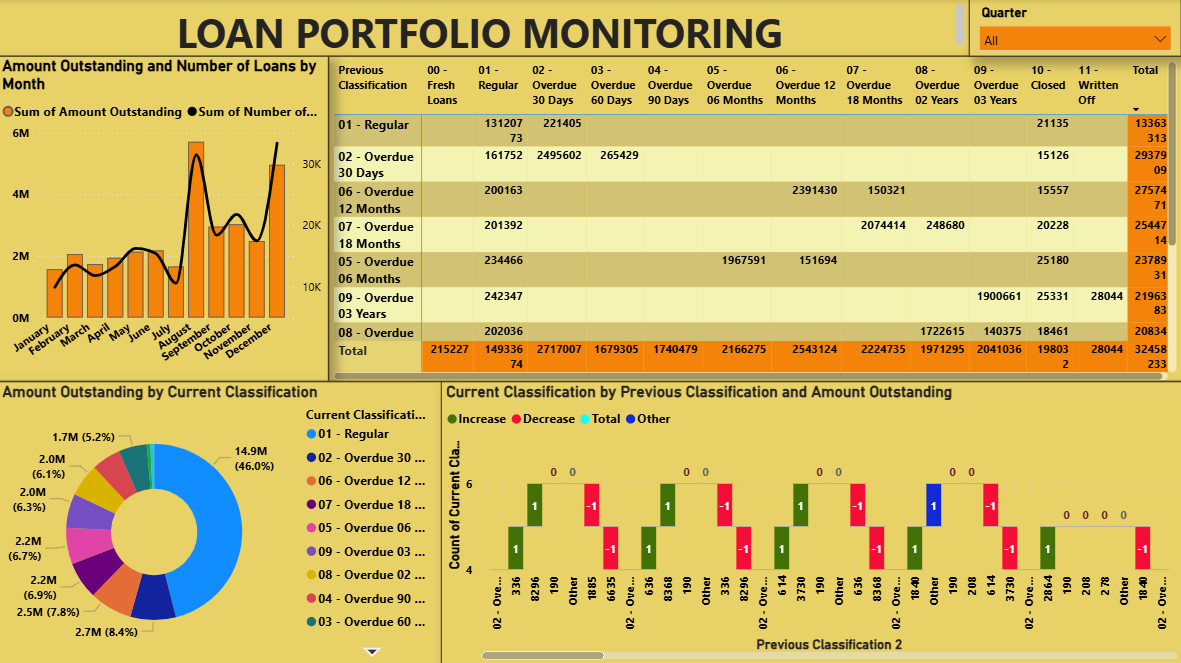

This screenshot's page, from the dashboard's own definition file:
{"tool":"powerbi","page":{"name":"Page 1","canvas":[1280,720],"ordinal":0},"visuals":[{"type":"textbox","box":[0,0,1049.9,61.9],"z":0},{"type":"pivotTable","title":"Change In Loan Classification","fields":{"Columns":["Loans.Current Classification"],"Rows":["Loans.Previous Classification "],"Values":["Sum(Loans.Amount Outstanding)"]},"box":[358.1,61.9,921.3,351.6],"z":1000},{"type":"lineClusteredColumnComboChart","title":"Amount Outstanding and Number of Loans by Month","fields":{"Category":["Loans.Date.Variation.Date Hierarchy.Month"],"Y":["Sum(Loans.Amount Outstanding)"],"Y2":["Sum(Loans.Number of Loans)"]},"box":[0,61.5,357.8,351.4],"z":2000},{"type":"slicer","fields":{"Values":["Loans.Date.Variation.Date Hierarchy.Quarter"]},"box":[1049.9,0,229.5,61.9],"z":3000},{"type":"donutChart","title":" Amount Outstanding by Current Classification","fields":{"Category":["Loans.Current Classification"],"Y":["Sum(Loans.Amount Outstanding)"]},"box":[0,412.9,480.9,306],"z":4000},{"type":"waterfallChart","title":"Current Classification by Previous Classification and Amount Outstanding","fields":{"Category":["Loans.Previous Classification 2"],"Breakdown":["Loans.Amount Outstanding"],"Y":["CountNonNull(Loans.Current Classification)"]},"box":[478.6,413.5,800.9,306],"z":5000}]}

Visuals, with their boxes in screenshot pixels (x1, y1, x2, y2), scaled from the page's 1280x720 canvas onto the 1181x663 screenshot:
textbox: 0 0 969 57
"Change In Loan Classification" pivotTable: 330 57 1180 381
"Amount Outstanding and Number of Loans by Month" lineClusteredColumnComboChart: 0 57 330 380
slicer - Loans.Date.Variation.Date Hierarchy.Quarter: 969 0 1180 57
" Amount Outstanding by Current Classification" donutChart: 0 380 444 662
"Current Classification by Previous Classification and Amount Outstanding" waterfallChart: 442 381 1180 662
